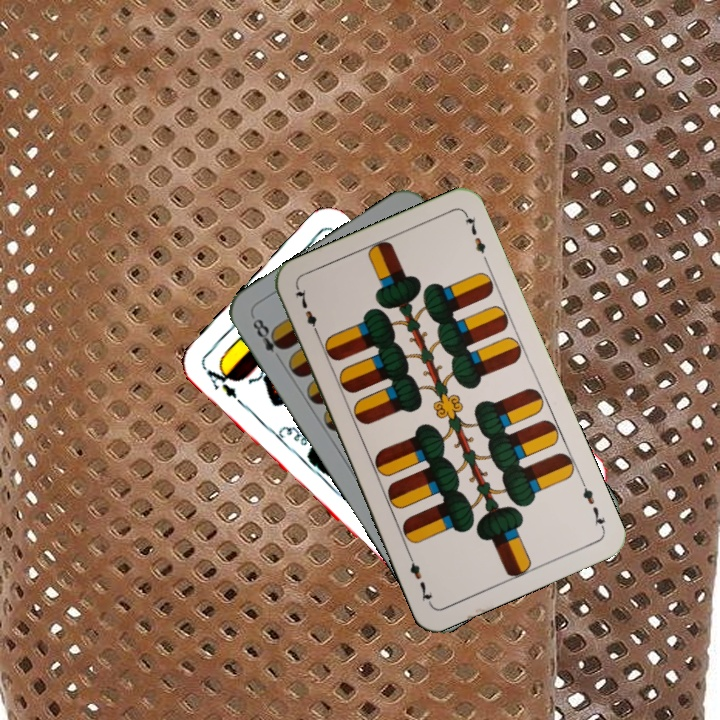E7: (291, 284, 323, 340), (577, 476, 608, 533)
E8: (248, 312, 288, 365)
EA: (199, 362, 246, 408)
